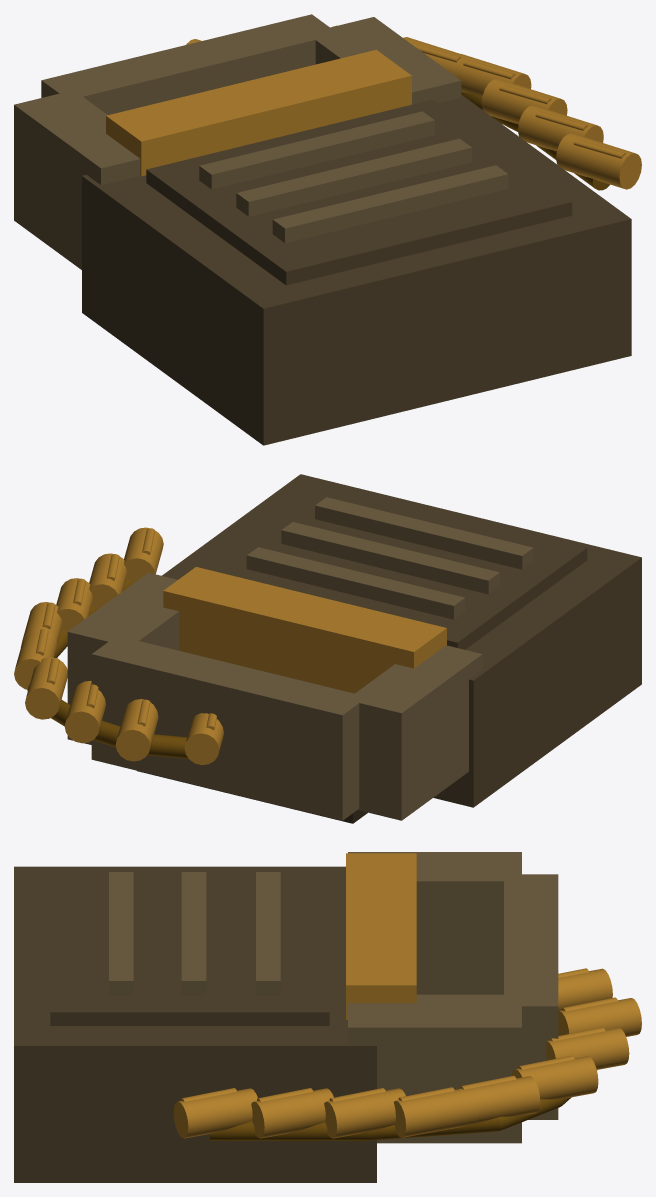
File: CMU3DFieldRMCMagazineLMGM60Cloud.glb
3 renders of one model, top to bottom at view 1: azimuth 30°, elevation 25°; view 2: azimuth 150°, elevation 25°; view 3: azimuth 270°, elevation 25°, orthographic. The views are drawn at different scales.
Parts seen in each view (by area): view 1: M60 brown box main shell, front recessed center panel, front upper collar, left top collar rail, rear upper collar, embossed front flute 22.1, embossed front flute 20.1, embossed front flute 18.05, right top collar rail, visible belt capsule 9, visible belt capsule 8, visible belt capsule 7 (+1 smaller); view 2: M60 brown box main shell, rear upper collar, front upper collar, front recessed center panel, left top collar rail, right top collar rail, embossed front flute 18.05, embossed front flute 22.1, embossed front flute 20.1, visible belt capsule 2, visible belt capsule 4, visible belt capsule 3 (+7 smaller); view 3: M60 brown box main shell, front recessed center panel, right top collar rail, left top collar rail, front upper collar, rear upper collar, embossed front flute 20.1, embossed front flute 18.05, embossed front flute 22.1, visible belt capsule 6, visible belt capsule 9, visible belt capsule 8 (+9 smaller).
Boxes of the visible parts, x1,y1,x2,y2 form: M60 brown box main shell: [82, 94, 631, 445]; front recessed center panel: [146, 99, 572, 285]; front upper collar: [106, 49, 411, 176]; left top collar rail: [14, 90, 140, 269]; rear upper collar: [41, 14, 338, 114]; embossed front flute 22.1: [272, 165, 508, 243]; embossed front flute 20.1: [236, 138, 471, 216]; embossed front flute 18.05: [199, 111, 434, 189]; right top collar rail: [307, 17, 461, 104]; visible belt capsule 9: [556, 133, 641, 189]; visible belt capsule 8: [518, 105, 603, 150]; visible belt capsule 7: [481, 78, 567, 123]; M60 brown box main shell: [162, 474, 641, 807]; rear upper collar: [91, 636, 366, 820]; front upper collar: [163, 567, 446, 693]; front recessed center panel: [204, 483, 587, 649]; left top collar rail: [346, 645, 482, 820]; right top collar rail: [67, 572, 179, 744]; embossed front flute 18.05: [246, 547, 465, 619]; embossed front flute 22.1: [315, 497, 533, 569]; embossed front flute 20.1: [281, 522, 499, 594]; visible belt capsule 2: [115, 699, 158, 761]; visible belt capsule 4: [25, 657, 67, 719]; visible belt capsule 3: [64, 681, 105, 743]; M60 brown box main shell: [14, 866, 376, 1182]; front recessed center panel: [50, 873, 329, 1025]; right top collar rail: [348, 994, 521, 1143]; left top collar rail: [348, 852, 521, 994]; front upper collar: [346, 853, 416, 1019]; rear upper collar: [504, 874, 558, 1119]; embossed front flute 20.1: [181, 872, 206, 995]; embossed front flute 18.05: [256, 872, 280, 995]; embossed front flute 22.1: [109, 872, 133, 995]; visible belt capsule 6: [394, 1089, 478, 1137]; visible belt capsule 9: [173, 1088, 257, 1138]; visible belt capsule 8: [251, 1088, 333, 1138].
Bounding box in the file's own units: 0.4627 × 0.163 × 0.5408.
